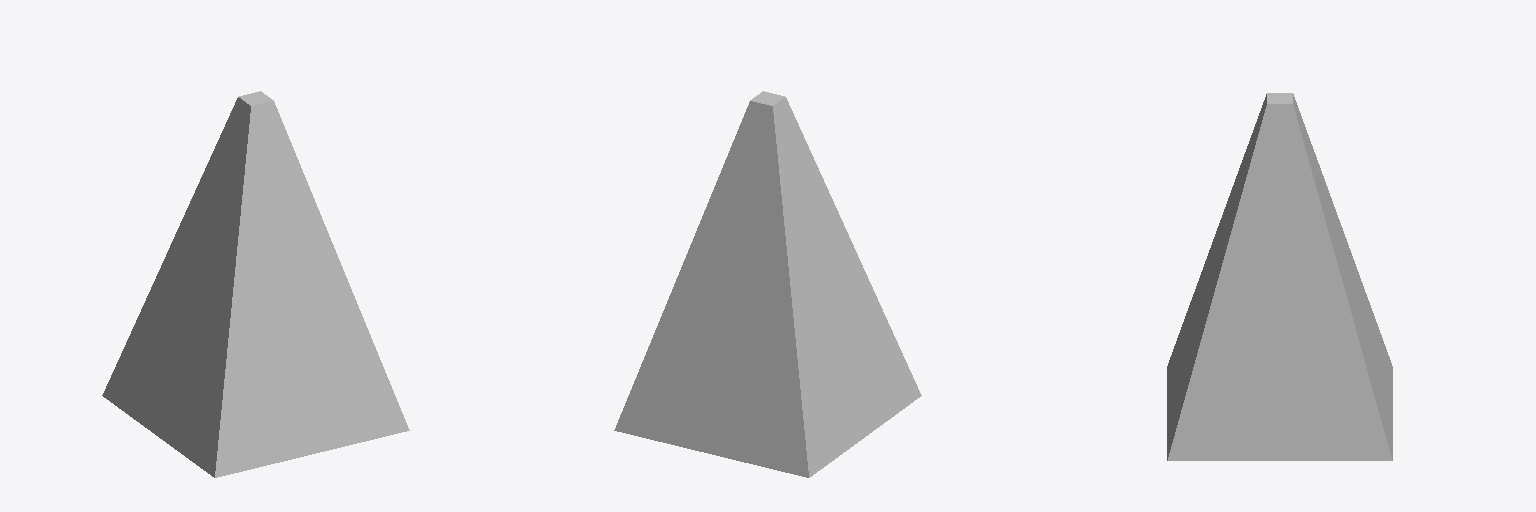
File: SM_Env_Tree_02_snow.obj
The picture shows the model from 3 angles: view 1: azimuth 30°, elevation 25°; view 2: azimuth 150°, elevation 25°; view 3: azimuth 270°, elevation 25°; orthographic projection.
Visible parts, largest first — view 1: SM_Env_Tree_02_snow:Mesh; view 2: SM_Env_Tree_02_snow:Mesh; view 3: SM_Env_Tree_02_snow:Mesh.
Part boxes in pixels (x1,y1,x2,y2): SM_Env_Tree_02_snow:Mesh: (102, 91, 409, 477); SM_Env_Tree_02_snow:Mesh: (614, 91, 921, 477); SM_Env_Tree_02_snow:Mesh: (1167, 93, 1392, 460).
Bounding box in the file's own units: 1.67 × 2.57 × 1.67.